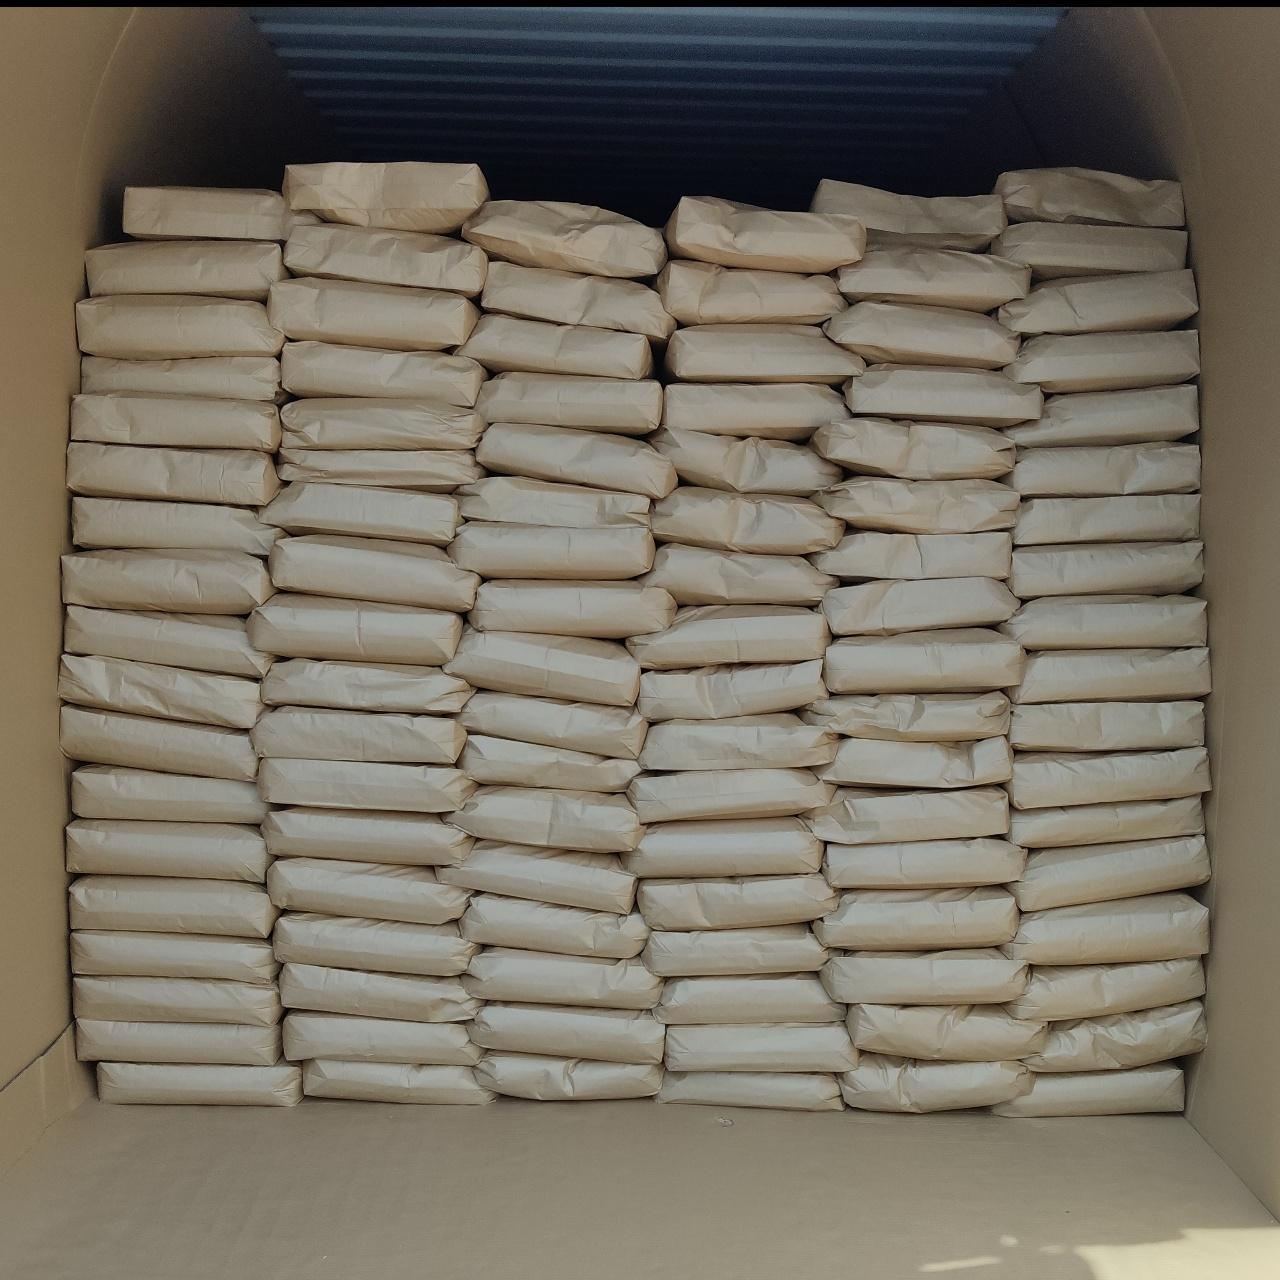sack: (269, 535, 479, 612), (462, 200, 666, 277), (268, 277, 479, 350), (247, 594, 463, 665), (481, 261, 675, 340), (665, 197, 866, 273), (1010, 835, 1209, 911), (444, 628, 639, 705), (477, 423, 677, 498), (60, 655, 262, 729), (61, 705, 257, 780), (65, 607, 272, 678), (282, 162, 489, 233), (1002, 893, 1207, 964), (285, 225, 487, 297), (437, 841, 635, 914), (67, 441, 279, 506), (812, 180, 1007, 250), (282, 341, 487, 407), (63, 550, 273, 614), (267, 857, 470, 923), (77, 296, 284, 360), (825, 628, 1028, 693), (649, 486, 843, 554), (651, 427, 842, 496), (823, 301, 1019, 368), (455, 314, 652, 380), (1022, 1001, 1205, 1072), (259, 481, 461, 545), (72, 876, 276, 939), (1000, 270, 1197, 335), (67, 820, 270, 883), (627, 605, 830, 668), (811, 416, 1014, 479), (274, 913, 476, 976), (815, 887, 1019, 949), (449, 787, 643, 852), (655, 259, 846, 325), (838, 247, 1030, 312), (1008, 747, 1209, 809), (70, 393, 280, 452), (460, 692, 647, 758), (250, 706, 466, 763), (459, 894, 649, 958), (1005, 384, 1198, 447), (462, 947, 660, 1008), (73, 498, 281, 556), (622, 817, 823, 877), (1004, 331, 1198, 393), (469, 580, 676, 638), (262, 807, 472, 864), (991, 222, 1187, 283), (844, 366, 1042, 426), (665, 324, 865, 383), (448, 522, 655, 579), (476, 372, 662, 435), (638, 659, 827, 721), (86, 241, 288, 299), (642, 544, 837, 604), (1009, 959, 1204, 1019), (814, 476, 1019, 533), (803, 787, 1008, 844), (258, 758, 474, 812), (1007, 540, 1203, 599), (995, 167, 1184, 228), (280, 963, 478, 1021), (821, 577, 1019, 635), (637, 873, 838, 930), (1008, 647, 1209, 704), (262, 659, 472, 713), (469, 1004, 664, 1062), (626, 769, 834, 823), (821, 949, 1027, 1003), (847, 1004, 1045, 1060), (72, 766, 266, 823), (840, 1055, 1034, 1112), (1001, 597, 1207, 650), (640, 714, 837, 769), (123, 187, 319, 242), (1004, 442, 1200, 497), (663, 383, 848, 441), (72, 931, 277, 983), (283, 1011, 479, 1065), (990, 1063, 1184, 1117), (281, 398, 482, 450), (801, 691, 1009, 741), (459, 735, 640, 792), (824, 838, 1027, 888), (74, 976, 281, 1025), (818, 736, 1011, 788), (1009, 701, 1203, 752), (812, 531, 1011, 580), (1008, 797, 1203, 847), (642, 925, 828, 977), (1012, 494, 1198, 546), (457, 477, 650, 527), (654, 974, 845, 1024), (665, 1023, 858, 1072), (78, 1019, 279, 1065), (97, 1062, 302, 1106), (279, 448, 484, 492), (82, 356, 283, 400), (475, 1053, 662, 1100), (303, 1059, 495, 1104), (659, 1071, 843, 1110)
